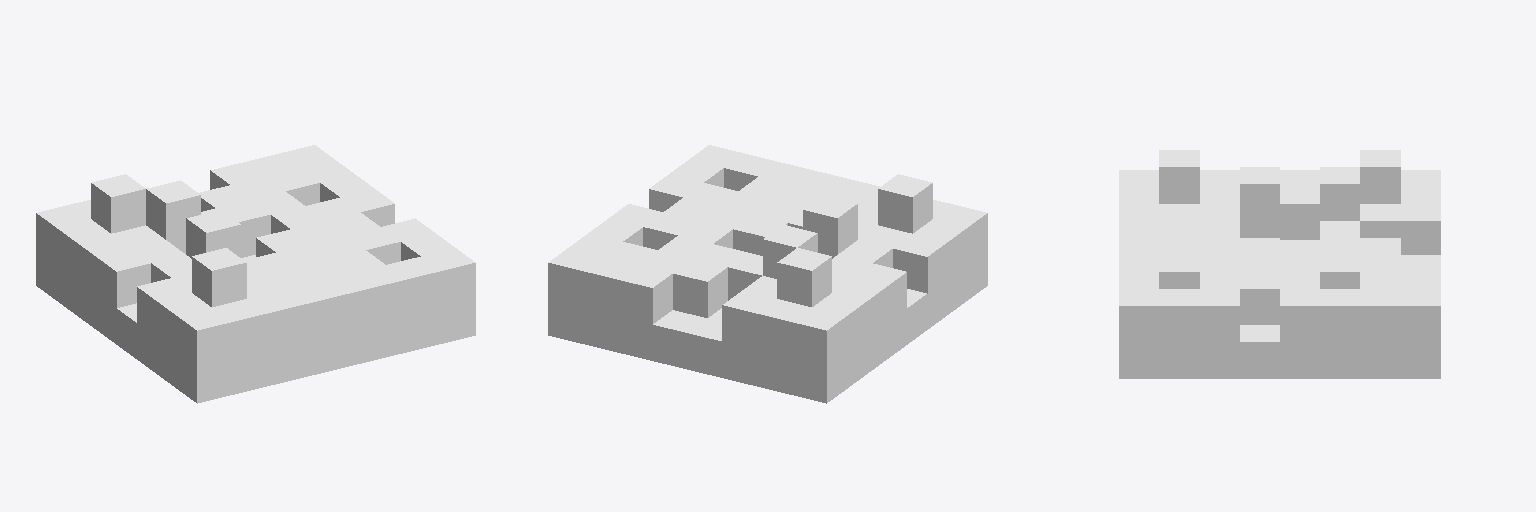
The model's file is GreenCorall10.obj.
3 renders of one model, left to right at view 1: azimuth 30°, elevation 25°; view 2: azimuth 150°, elevation 25°; view 3: azimuth 270°, elevation 25°, orthographic.
Visible parts, largest first — view 1: object 1; view 2: object 1; view 3: object 1.
Part boxes in pixels (x1,y1,x2,y2): object 1: (36, 145, 475, 403); object 1: (548, 145, 987, 403); object 1: (1119, 150, 1440, 378).
Size of the model in its own units: 0.8 by 0.3 by 0.8.